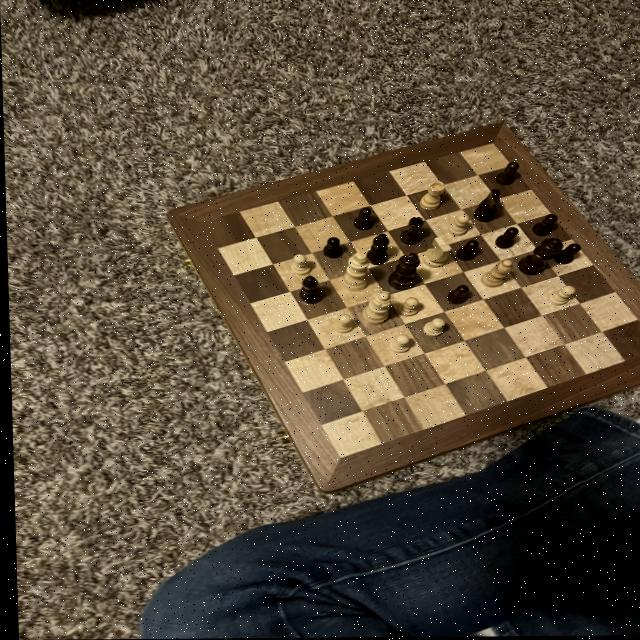bishop: (295, 274, 325, 307), (364, 234, 392, 268)
black-bishop: (384, 250, 421, 290)
black-king: (469, 187, 504, 225)
black-knight: (550, 240, 583, 268), (490, 224, 520, 251), (452, 238, 483, 263), (530, 213, 557, 240), (494, 162, 521, 189), (349, 206, 376, 232), (318, 235, 343, 260), (442, 283, 468, 307)
black-pawn: (511, 235, 564, 277)
black-queen: (391, 216, 432, 250)
black-rook: (476, 259, 515, 290)
white-bishop: (338, 252, 370, 296)
white-king: (419, 237, 452, 269)
white-knight: (542, 285, 578, 309), (444, 212, 471, 238), (396, 295, 421, 320), (287, 253, 312, 277), (330, 313, 355, 337), (384, 334, 411, 356), (421, 318, 446, 340)
white-pawn: (358, 290, 395, 329)
white-queen: (412, 179, 448, 212)
